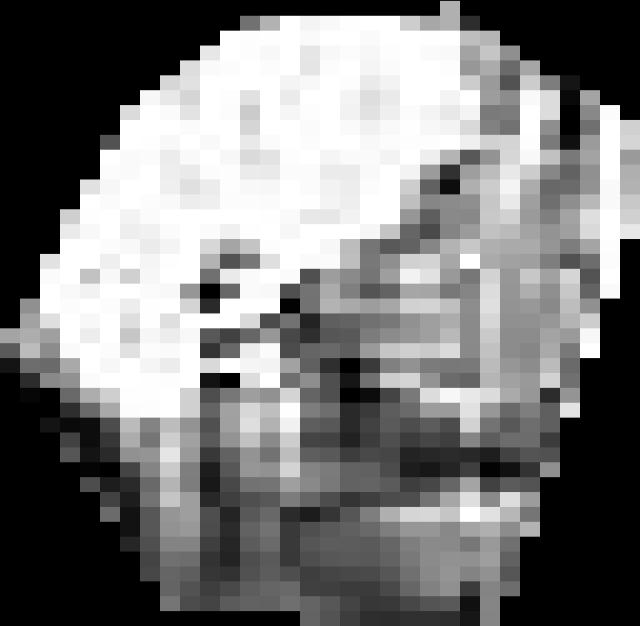tumor_good_chance: (0, 1, 640, 626)
